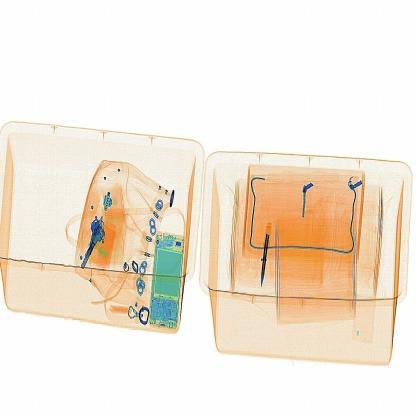gun: (252, 209, 278, 296)
